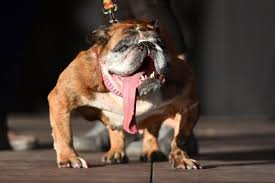Bulldog: (43, 21, 232, 176)
